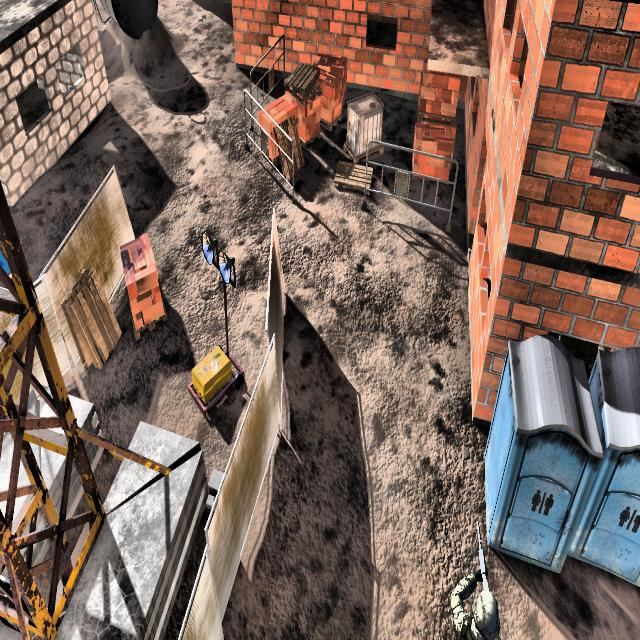bad: (438, 524, 508, 640)
